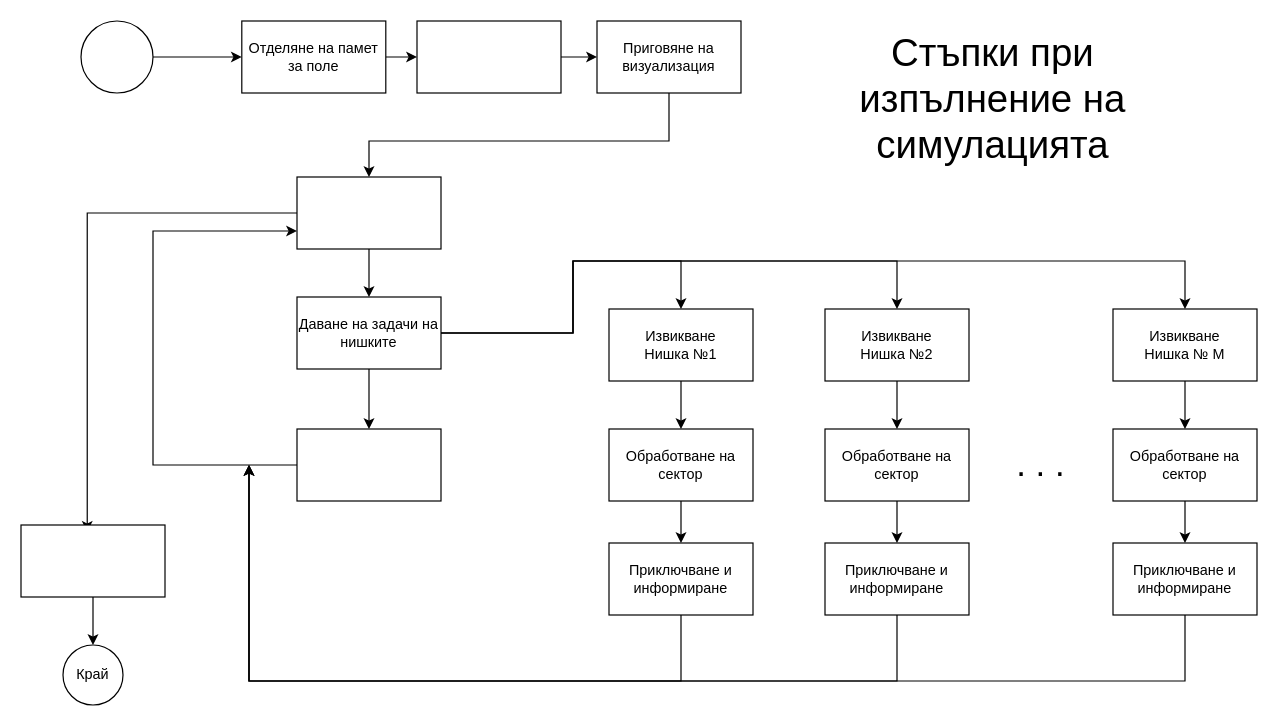
Some shapes in this 1278 by 726 pixel diagram are drawn without their labels. The centre of each missing label's shape, as x and y in pixels:
"Извеждане на резултати" belongs at point 92,560.
"Изчакване на нишки" belongs at point 368,464.
"Старт" belongs at point 116,56.
"Създаване на нишки" belongs at point 488,56.
"Цикъл - желан брой стъпки" belongs at point 368,212.
